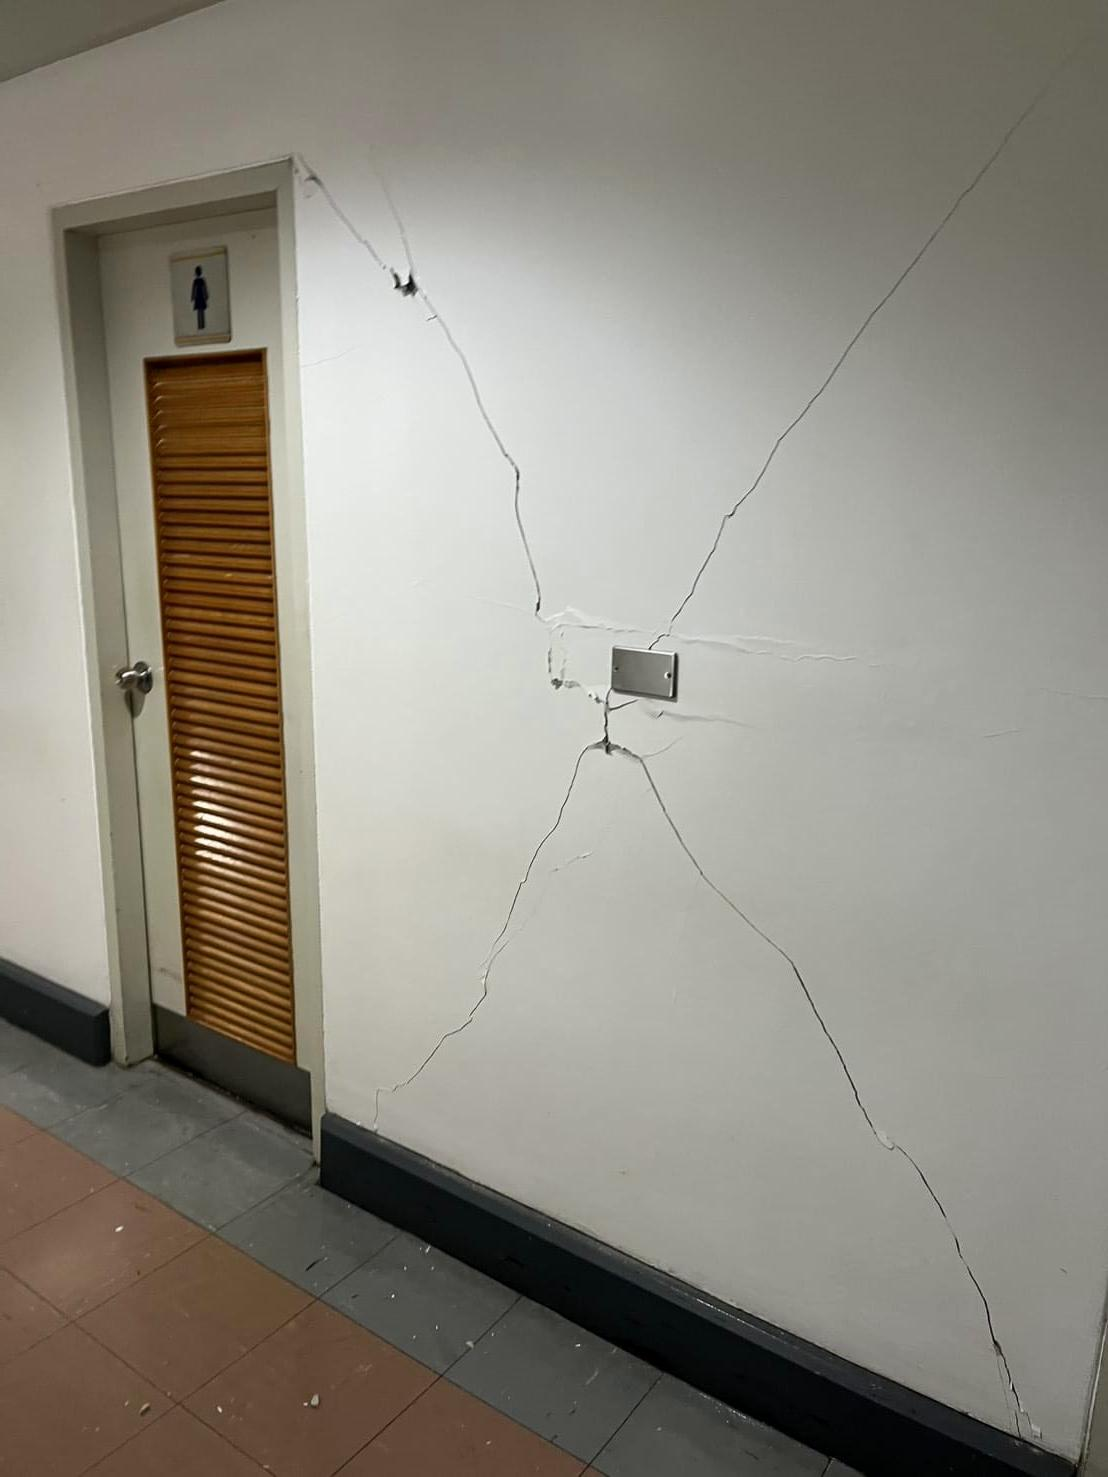High: (306, 38, 1074, 1474)
